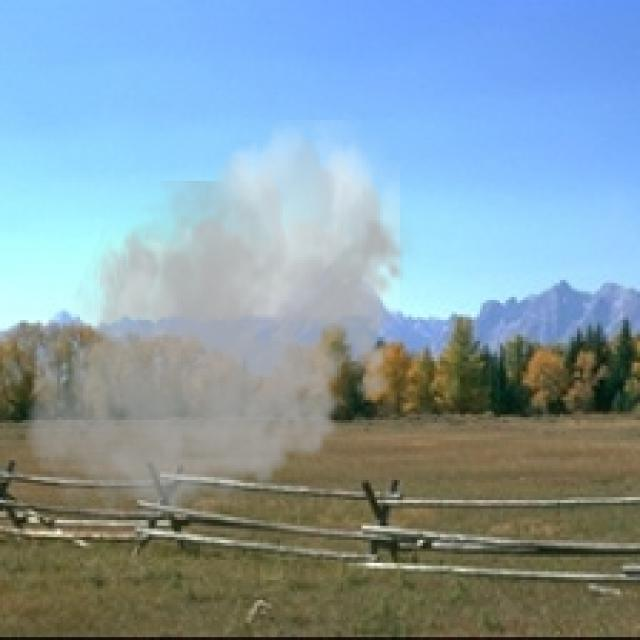Smoke: (17, 120, 417, 537)
